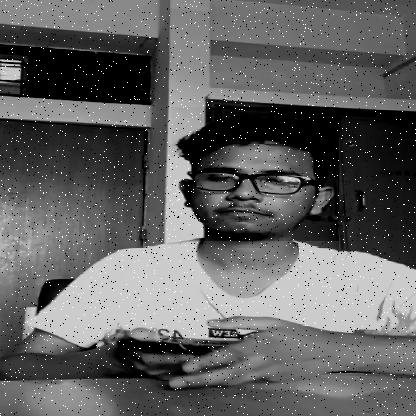Normal: (171, 107, 339, 241)
